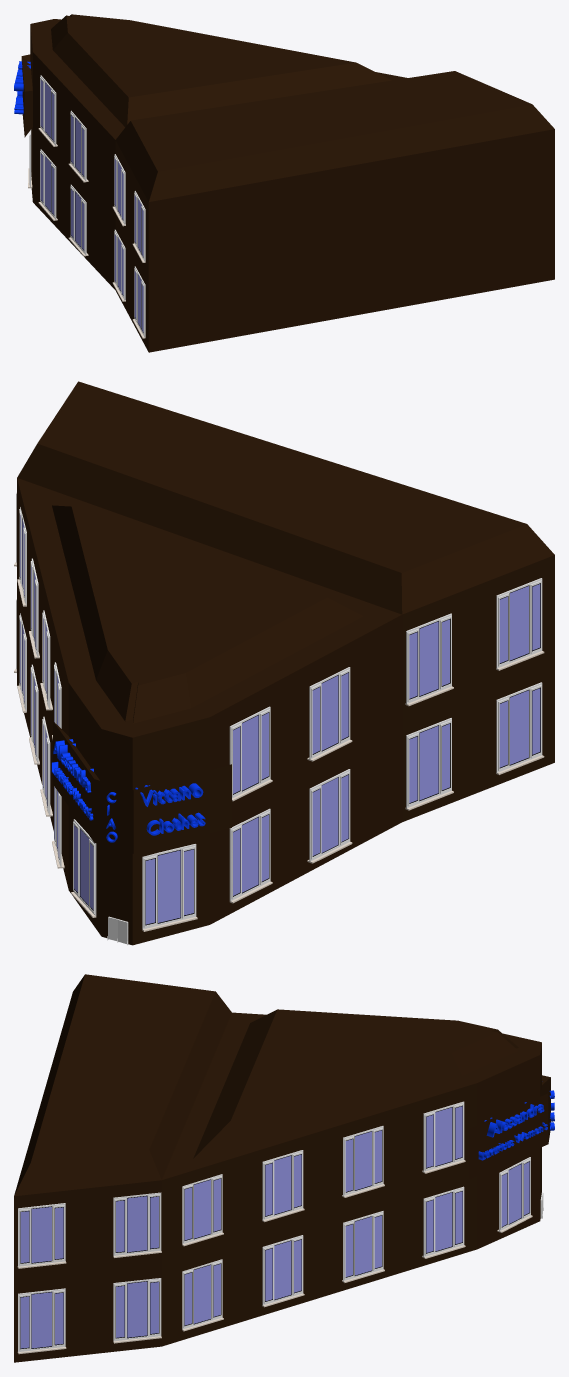
The model's file is AlessandraVittanoSTMStore.fbx.
The picture shows the model from 3 angles, top to bottom: view 1: azimuth 30°, elevation 25°; view 2: azimuth 150°, elevation 25°; view 3: azimuth 270°, elevation 25°; orthographic projection. The views are drawn at different scales.
Parts seen in each view (by area): view 1: Plane.006, Window.003, Window.006, Window.004, Window.007; view 2: Plane.006, Window.007, Window.004, Window.003, Window.006, Window, Window.001, Window.008, Window.002, Text.002, Text, Text.003; view 3: Plane.006, Window.008, Window.001, Window.005, Window.009, Window.002, Text, Text.001.
Part boxes in pixels (x1,y1,x2,y2): Plane.006: (21,14,554,352); Window.003: (38,149,88,256); Window.006: (38,75,88,182); Window.004: (112,229,145,338); Window.007: (112,154,145,262); Plane.006: (17,381,554,945); Window.007: (405,578,544,706); Window.004: (405,682,544,810); Window.003: (229,769,352,903); Window.006: (229,667,352,801); Window: (142,844,197,931); Window.001: (17,613,64,868); Window.008: (17,507,61,739); Window.002: (71,819,96,917); Text.002: (135,783,203,806); Text: (53,739,93,792); Text.003: (146,812,205,835); Plane.006: (14,974,550,1362); Window.008: (182,1101,465,1246); Window.001: (182,1186,465,1331); Window.005: (17,1278,161,1354); Window.009: (17,1192,161,1268); Window.002: (497,1157,532,1232); Text: (484,1102,544,1137); Text.001: (478,1122,547,1160).
Size of the model in its own units: 53.08 by 23.1 by 58.95.
